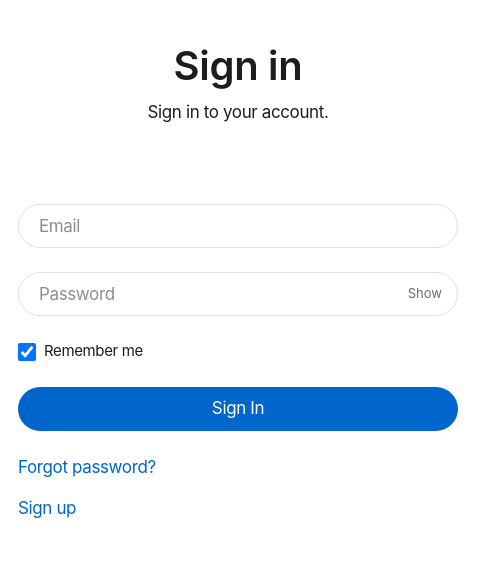
Test: SignInPage - Validation › should validate email format
This screenshot has width=477, height=567.
Type "invalid-email" into the field with placeholder "Email" at (238, 226), box top-left (18, 204), bottom-right (458, 248)
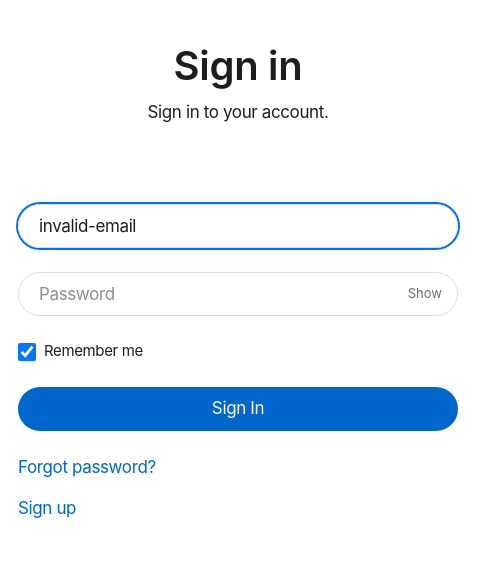
Type "password123" into the password field with placeholder "Password" at (238, 294), box top-left (18, 272), bottom-right (458, 316)
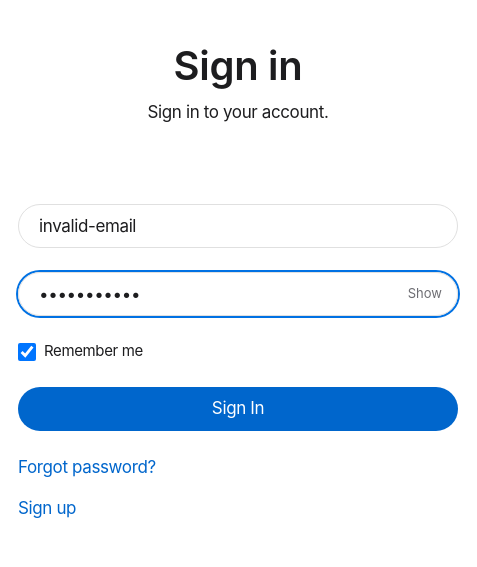
Click the button "Sign In" at (238, 408), box top-left (18, 386), bottom-right (458, 430)
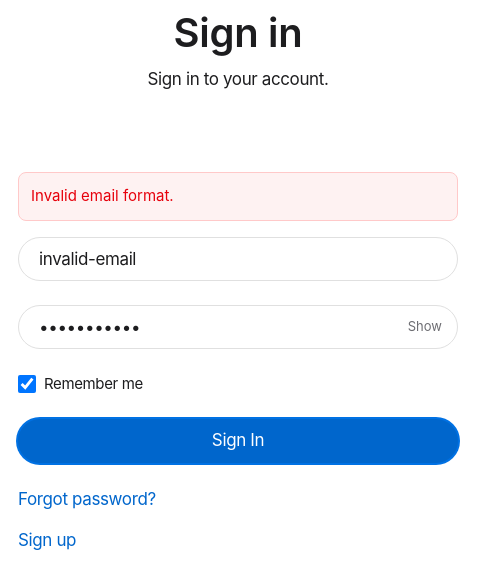
Expected: the text "Invalid email format." is shown, top-left (18, 172), bottom-right (458, 221)
